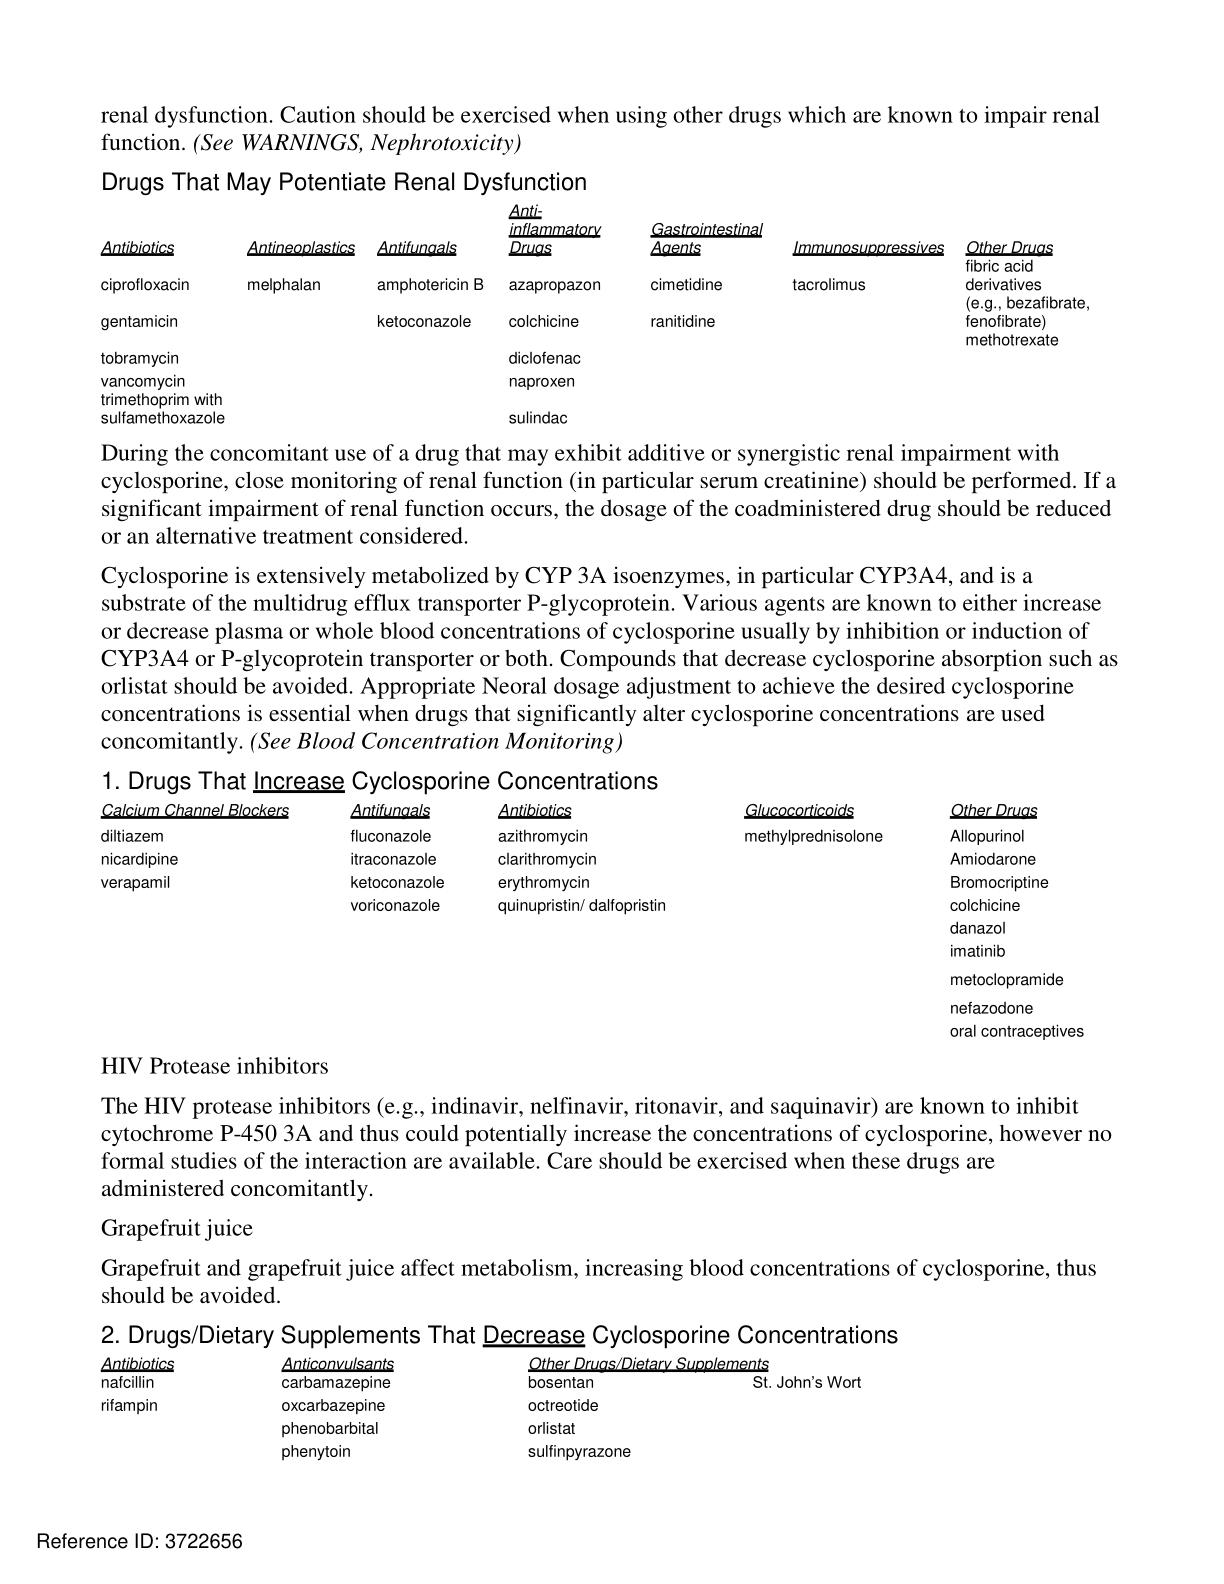nolines: (98, 798, 1090, 1041), (100, 201, 1093, 431), (93, 1354, 865, 1461)
